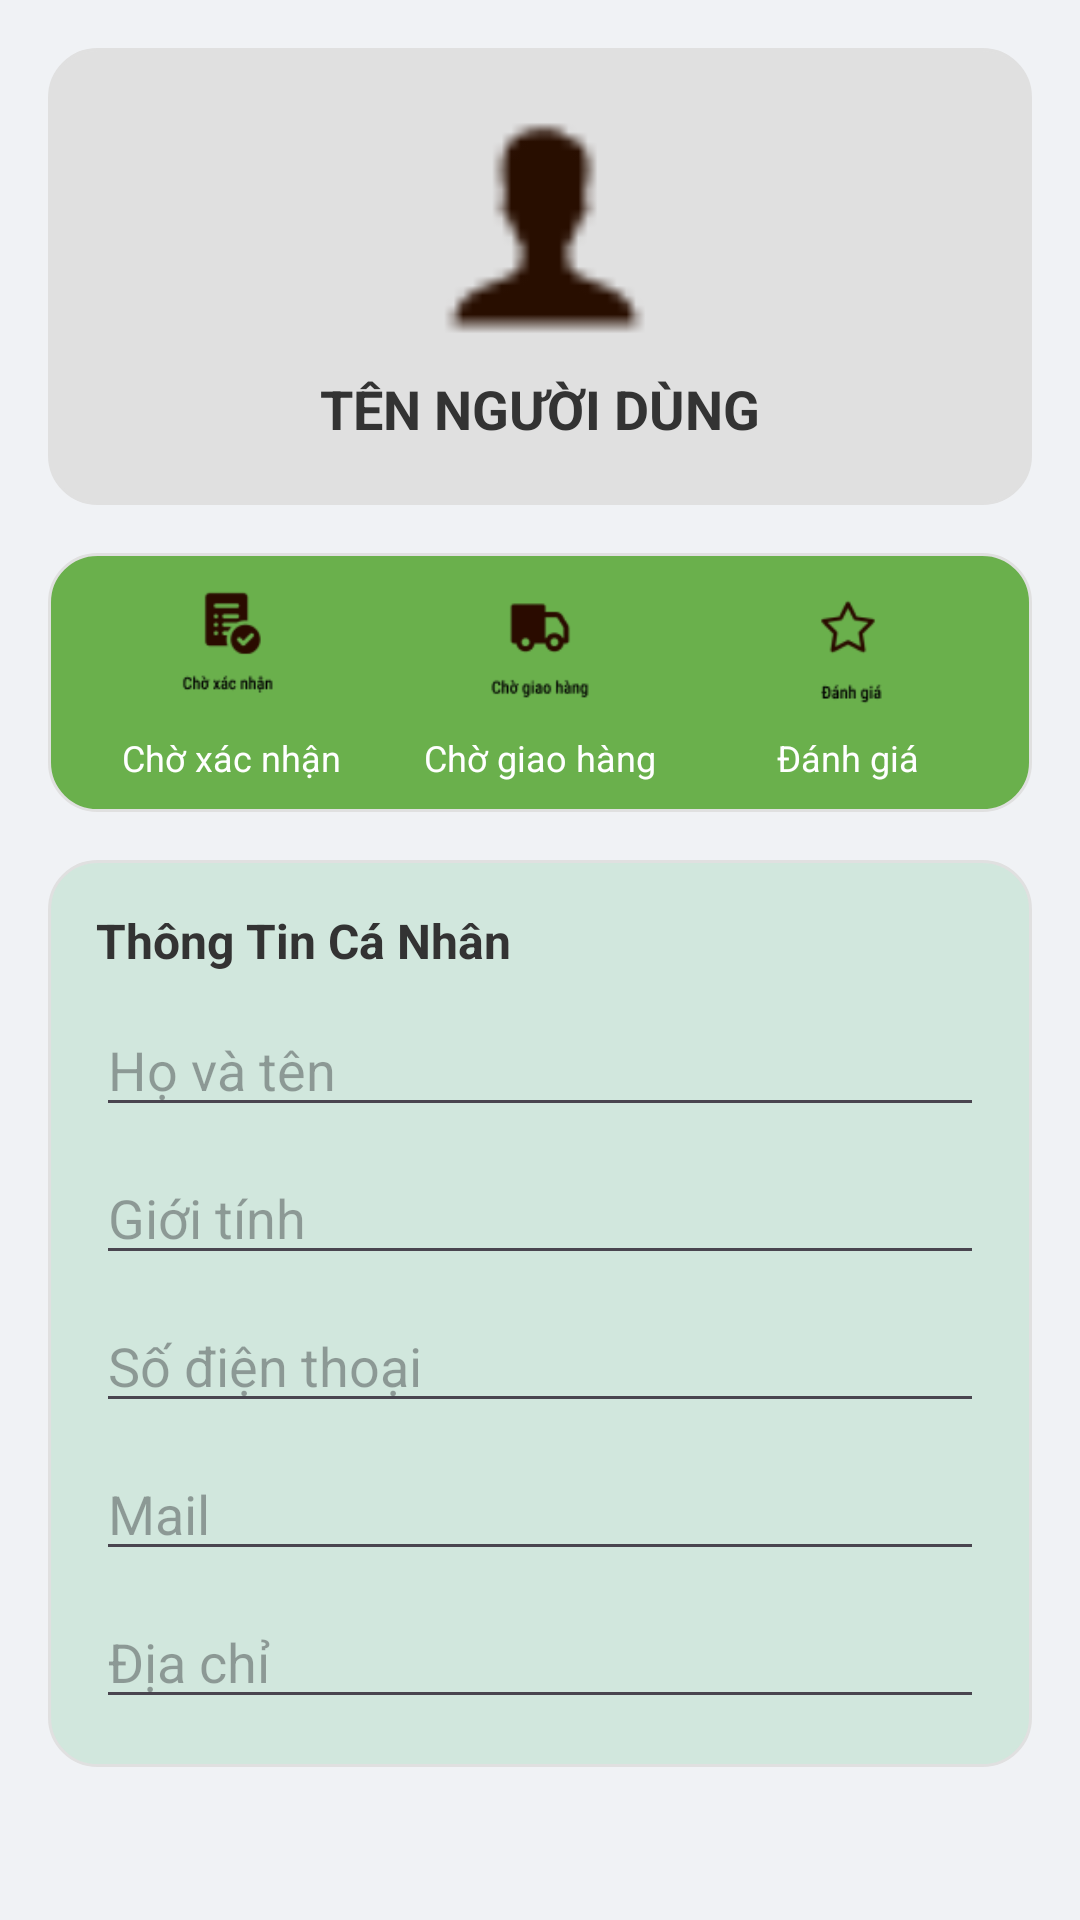

Where to tap for icons on this 1080×1920 app screen, as (x,y):
User Image: (544,228)
